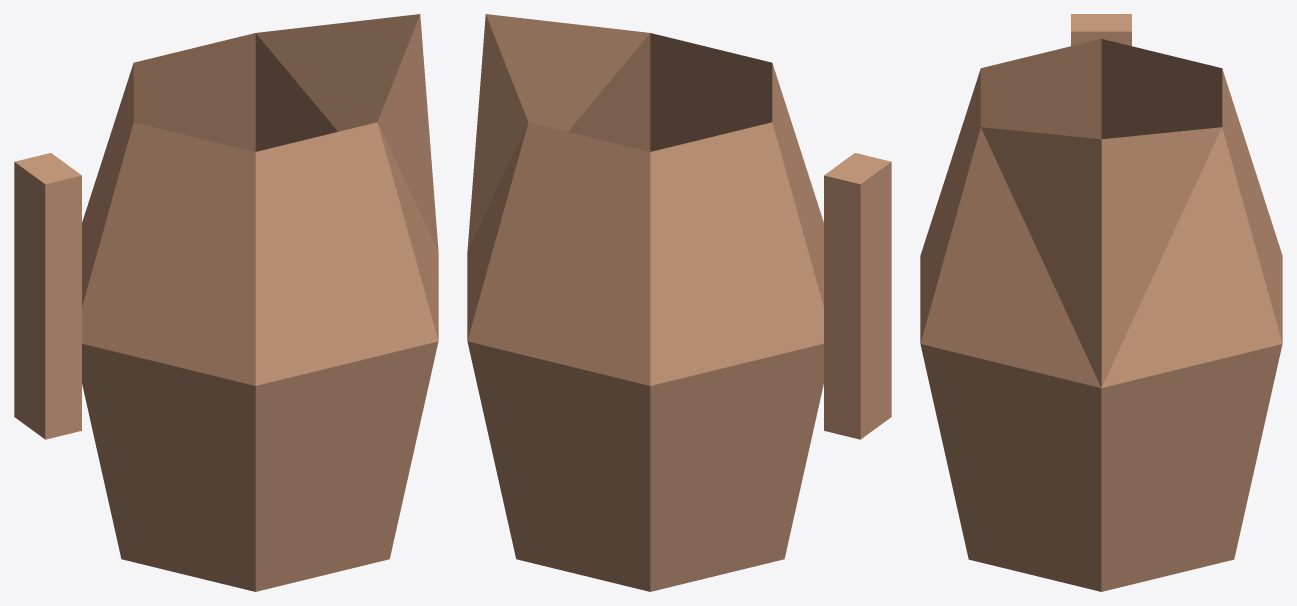
The model's file is prop-water-measure-jug-mm1.fbx.
3 renders of one model, left to right at view 1: azimuth 30°, elevation 25°; view 2: azimuth 150°, elevation 25°; view 3: azimuth 270°, elevation 25°, orthographic.
Parts seen in each view (by area): view 1: prop-water-measure-jug-mm1; view 2: prop-water-measure-jug-mm1; view 3: prop-water-measure-jug-mm1.
Boxes of the visible parts, left/top/right/bottom form: prop-water-measure-jug-mm1: left=14, top=14, right=438, bottom=591; prop-water-measure-jug-mm1: left=467, top=14, right=891, bottom=591; prop-water-measure-jug-mm1: left=920, top=14, right=1282, bottom=591.
Bounding box in the file's own units: 16.75 × 18.5 × 12.99.
